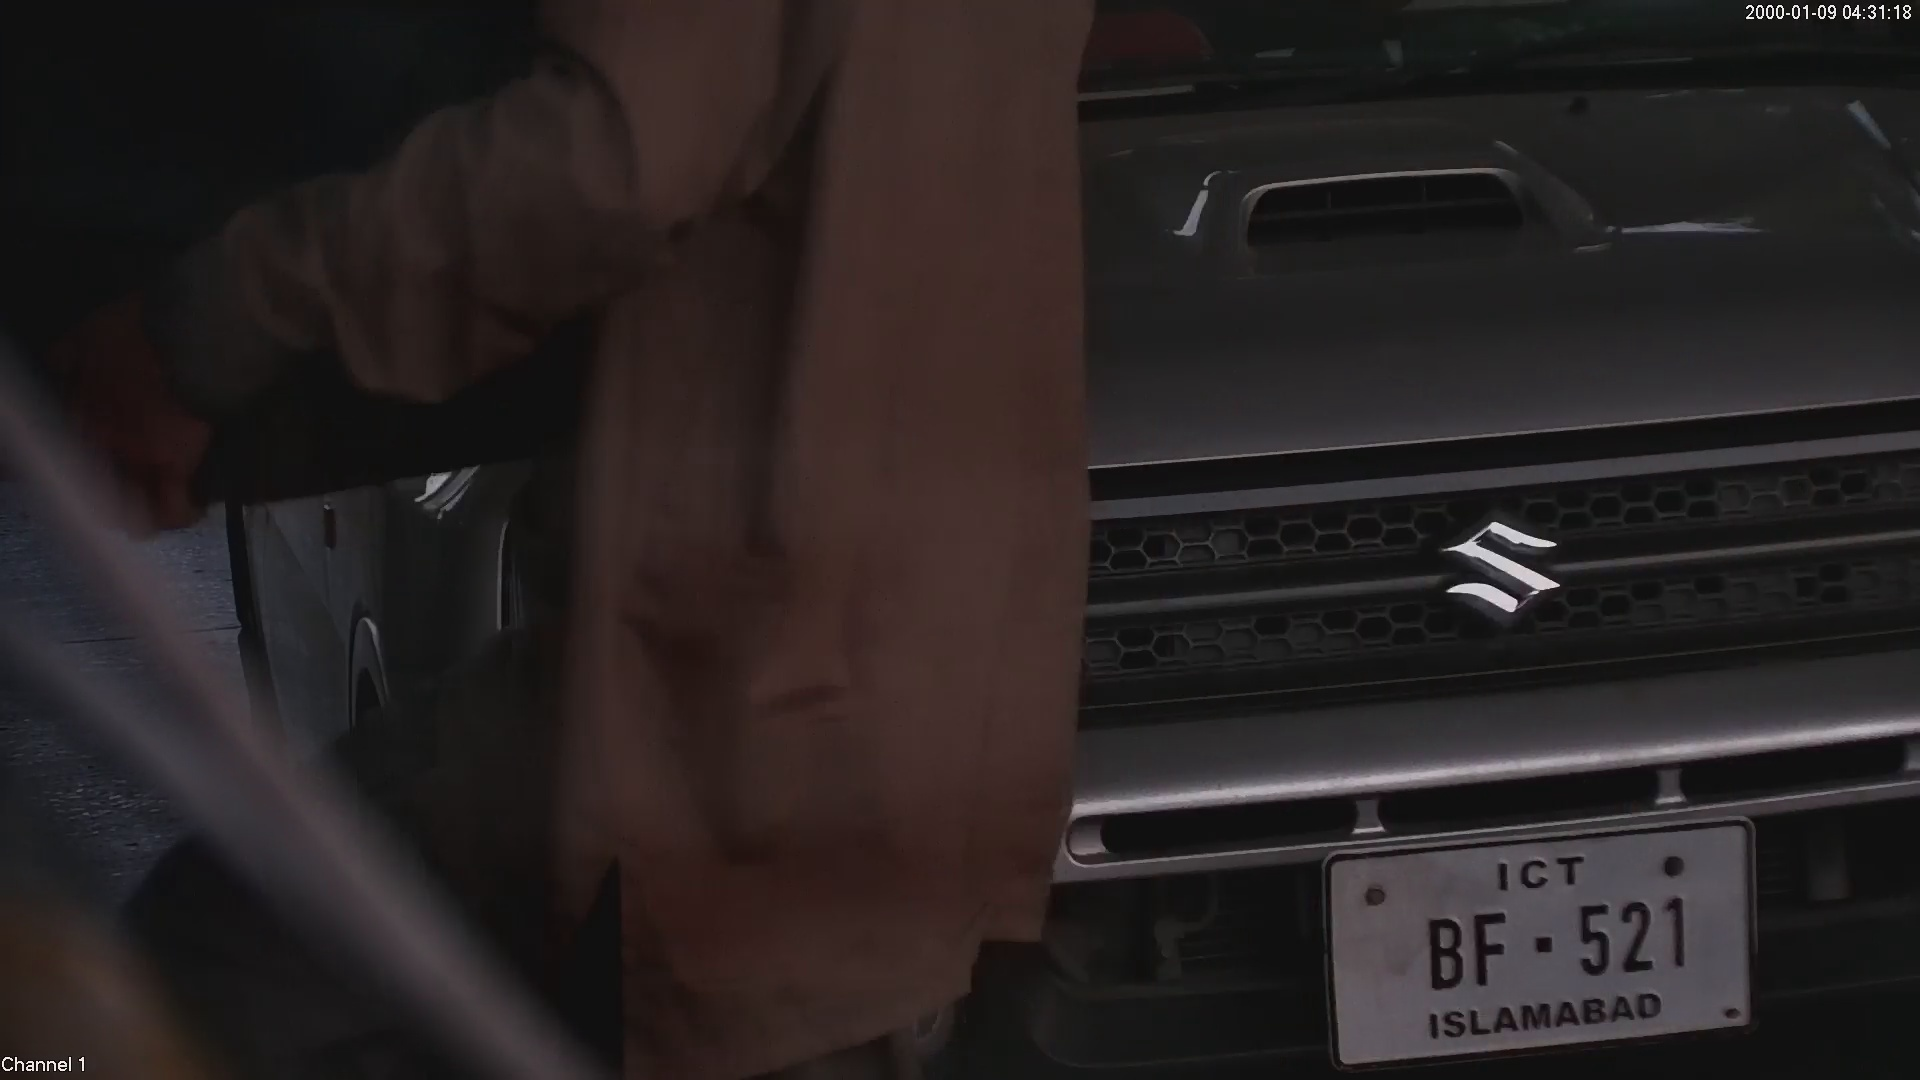Number_Plate: (1319, 827, 1758, 1040)
